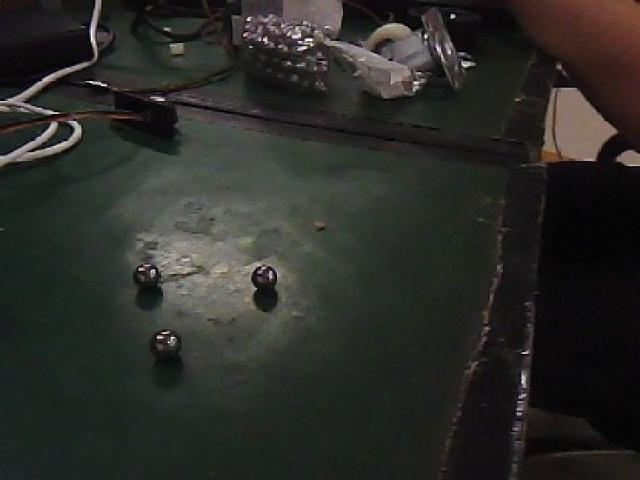steel-ball: (237, 243, 291, 300), (119, 244, 168, 299), (134, 320, 183, 366)
